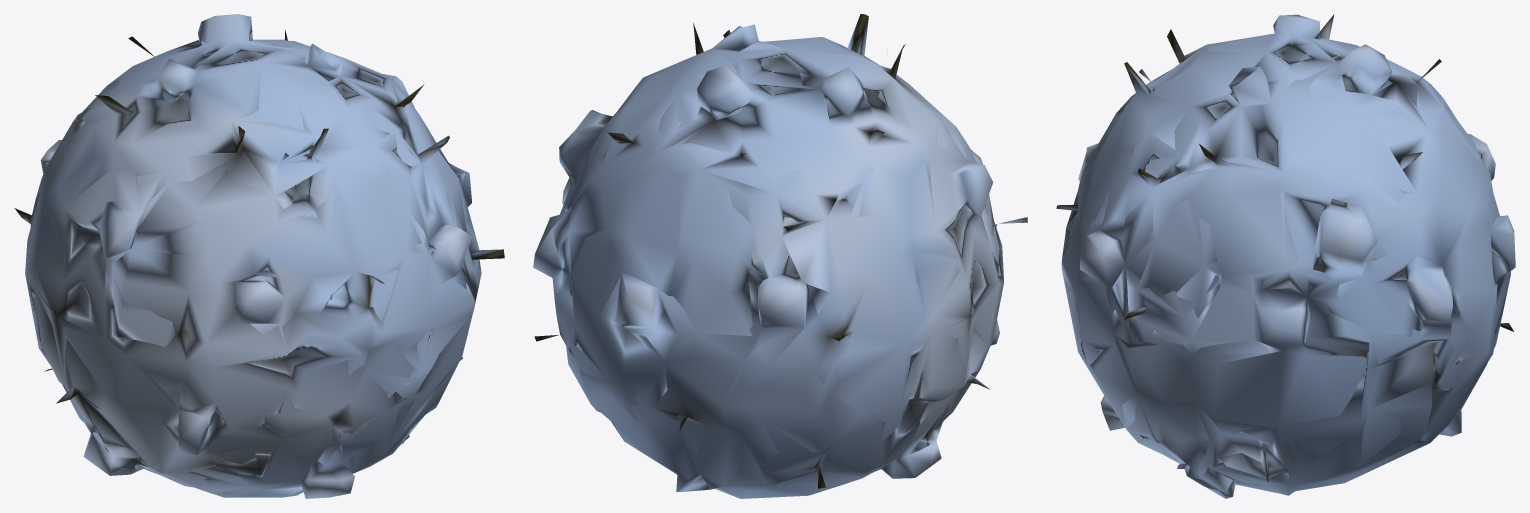
File: gen3d-giant-snowball-lod0.glb
3 views of the same model, side by side, from view 1: azimuth 30°, elevation 25°; view 2: azimuth 150°, elevation 25°; view 3: azimuth 270°, elevation 25° (orthographic).
Visible parts, largest first — view 1: part_0; view 2: part_0; view 3: part_0.
Boxes of the visible parts, x1,y1,x2,y2 form: part_0: (14, 14, 504, 498); part_0: (533, 14, 1027, 498); part_0: (1056, 14, 1515, 498).
Size of the model in its own units: 0.9977 by 1 by 0.9645.
